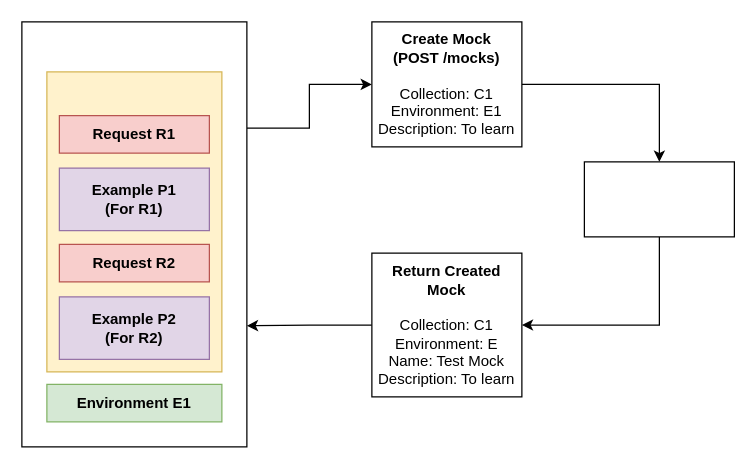
This 756x469 diagram has some shape labels left out. Each missing label, with the box of its shape:
Collection C1: (46, 71, 222, 372)
Mock Service: (583, 161, 734, 237)
Postman App: (21, 21, 247, 447)
